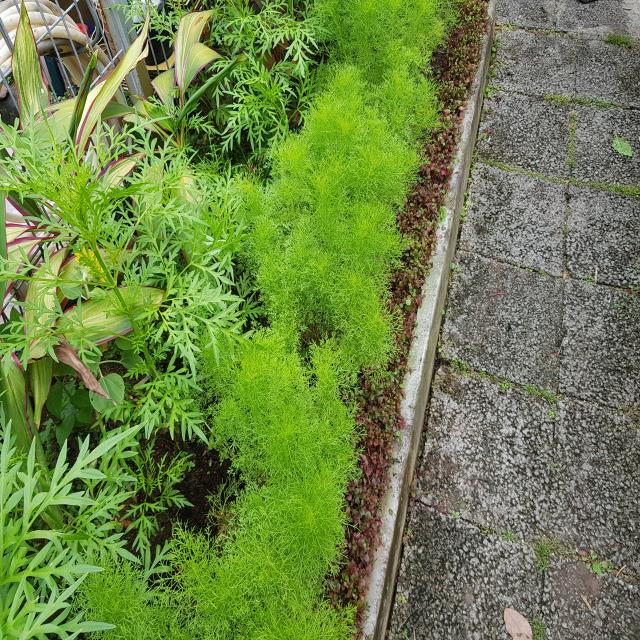Dill: (220, 346, 371, 572), (273, 178, 407, 352), (296, 70, 431, 203)
